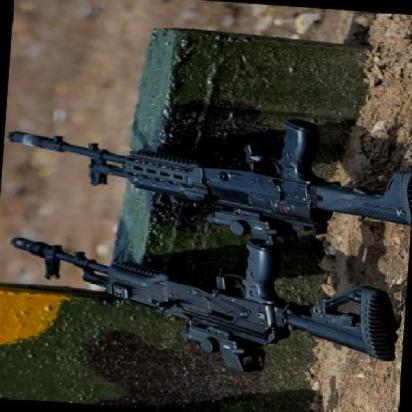Gun: (4, 90, 412, 234), (1, 228, 393, 370)
